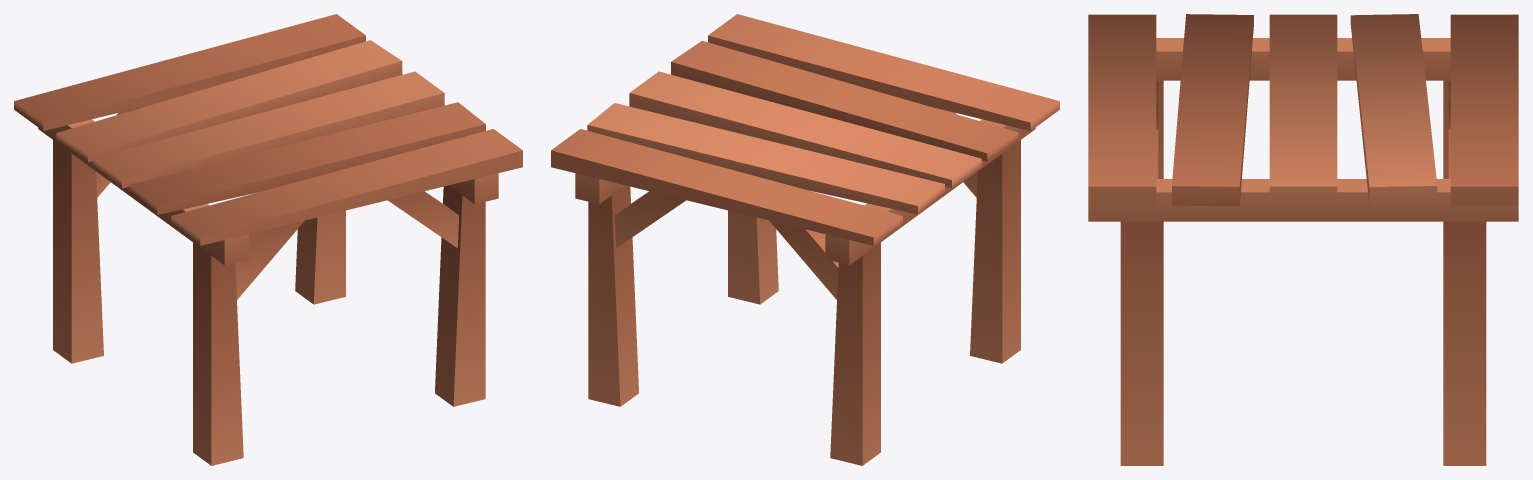
Rendered from template-floor-layer-raised.fbx.
3 renders of one model, left to right at view 1: azimuth 30°, elevation 25°; view 2: azimuth 150°, elevation 25°; view 3: azimuth 270°, elevation 25°, orthographic. The views are drawn at different scales.
Visible parts, largest first — view 1: template-floor-layer-raised; view 2: template-floor-layer-raised; view 3: template-floor-layer-raised.
Part boxes in pixels (bbox=[...]): template-floor-layer-raised: bbox=[14, 14, 522, 465]; template-floor-layer-raised: bbox=[551, 14, 1059, 465]; template-floor-layer-raised: bbox=[1088, 14, 1518, 465].
Size of the model in its own units: 402 by 300 by 400.
Materials: 1 (1 with a texture image).
